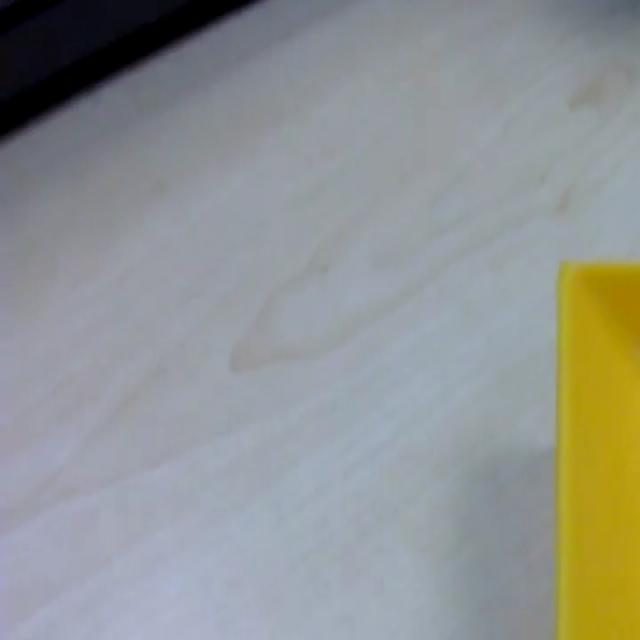yellow_block: (554, 256, 638, 636)
